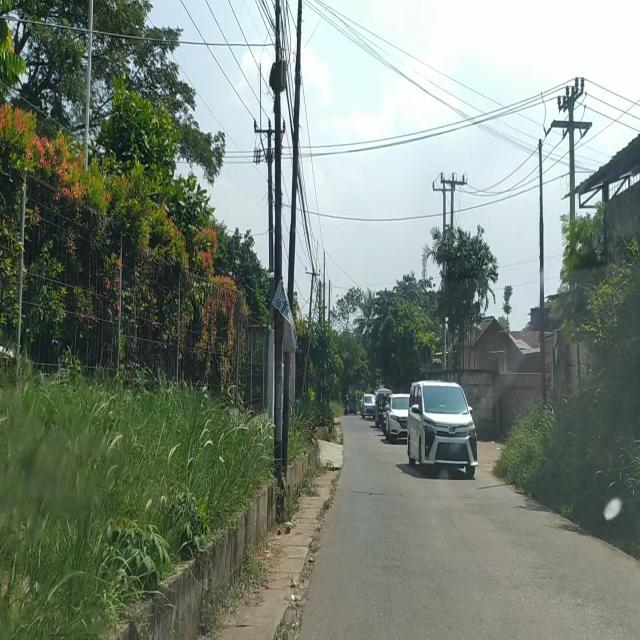Sewer Cover: (341, 488, 390, 496)
